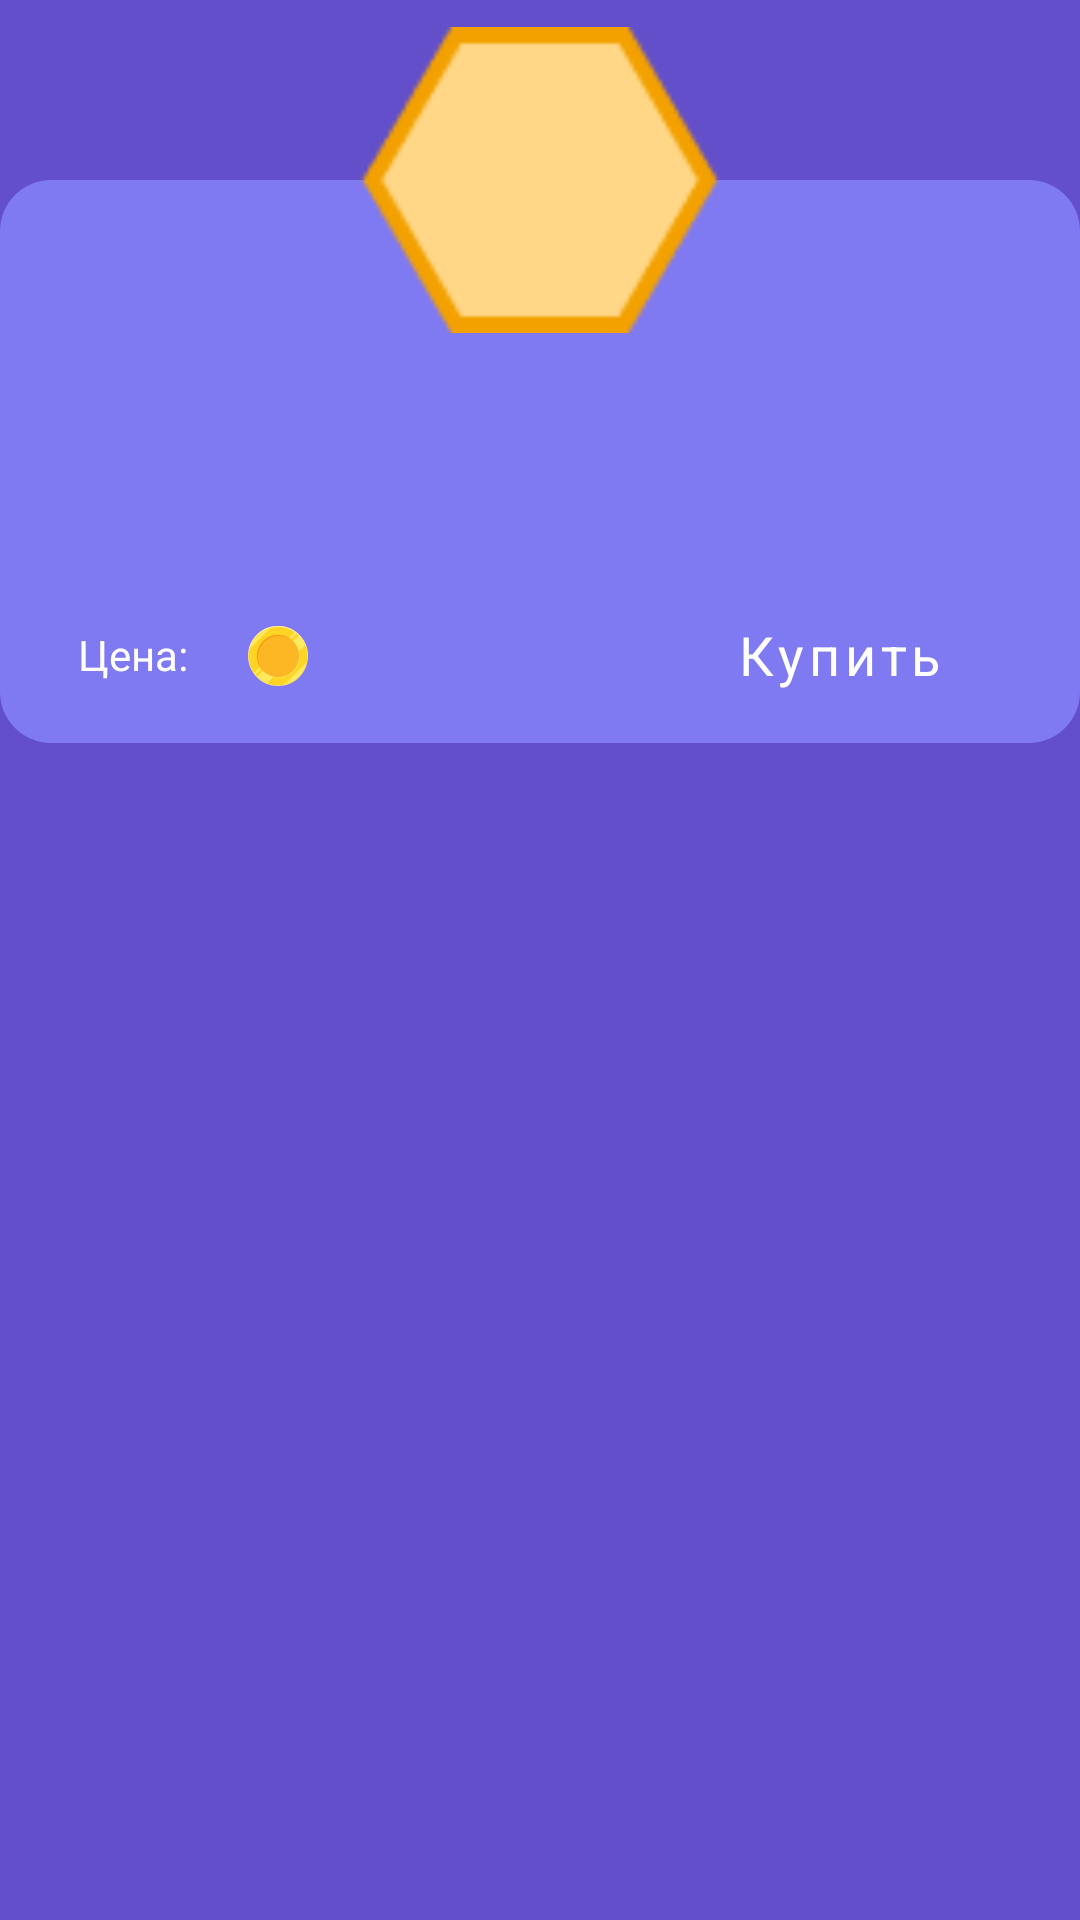

Where icons sit on this 1080*1920 app screen, as (x1, y1, x2, y2):
pic golden coin: (248, 626, 308, 686)
